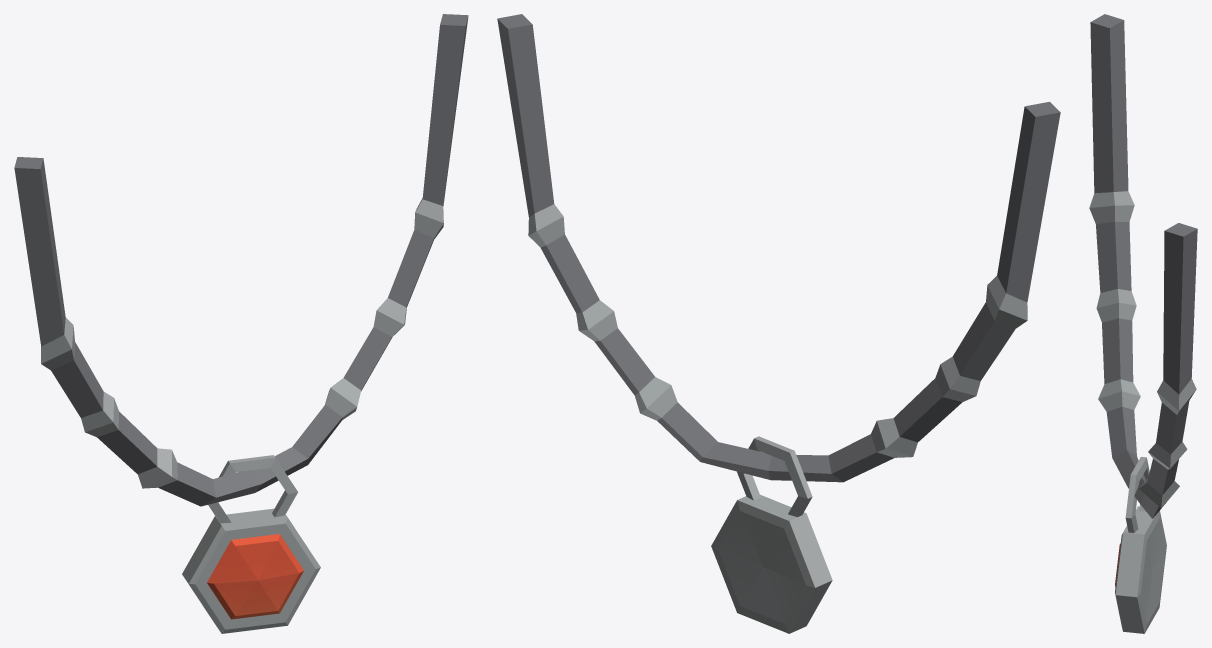
The model's file is amuletNecklace2.fbx.
3 renders of one model, left to right at view 1: azimuth 30°, elevation 25°; view 2: azimuth 150°, elevation 25°; view 3: azimuth 270°, elevation 25°, orthographic. The views are drawn at different scales.
Visible parts, largest first — view 1: amuletNecklace2; view 2: amuletNecklace2; view 3: amuletNecklace2.
Part boxes in pixels (x1,y1,x2,y2): amuletNecklace2: (14, 14, 468, 633); amuletNecklace2: (497, 14, 1060, 633); amuletNecklace2: (1089, 14, 1197, 633).
Bounding box in the file's own units: 1.79 × 1.84 × 0.3679.
Materials: 1 (1 with a texture image).
